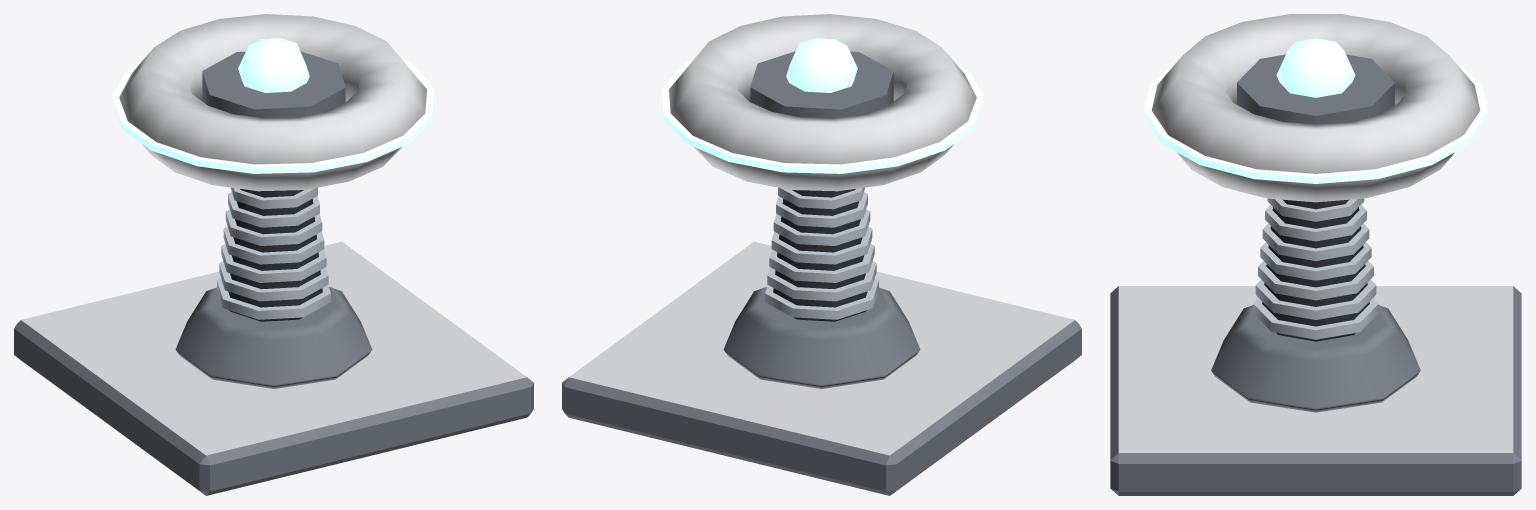
Rendered from R4X_AreaEMP_LOD1.fbx.
The picture shows the model from 3 angles, left to right: view 1: azimuth 30°, elevation 25°; view 2: azimuth 150°, elevation 25°; view 3: azimuth 270°, elevation 25°; orthographic projection. The views are drawn at different scales.
Parts seen in each view (by area): view 1: R4X_AreaEMP_LOD1; view 2: R4X_AreaEMP_LOD1; view 3: R4X_AreaEMP_LOD1.
Boxes of the visible parts, left/top/right/bottom form: R4X_AreaEMP_LOD1: left=14, top=14, right=533, bottom=495; R4X_AreaEMP_LOD1: left=562, top=14, right=1081, bottom=495; R4X_AreaEMP_LOD1: left=1110, top=14, right=1521, bottom=495.
Bounding box in the file's own units: 0.52 × 0.52 × 0.52.
